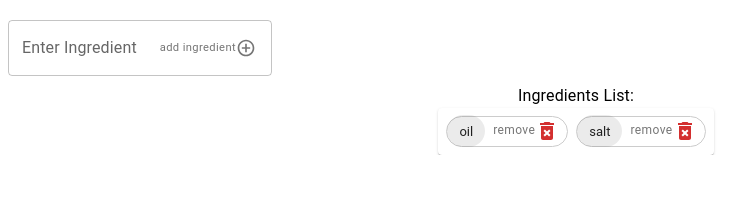
Test: AddIngredient › should render error when ingredient length is less than three characters long when ingredients exist
Expected: the button "add ingredient" is shown, [155,33,261,63]
Type "To" into the field labelled "Enter Ingredient". click: x=77, y=48
box: [8,20,147,76]
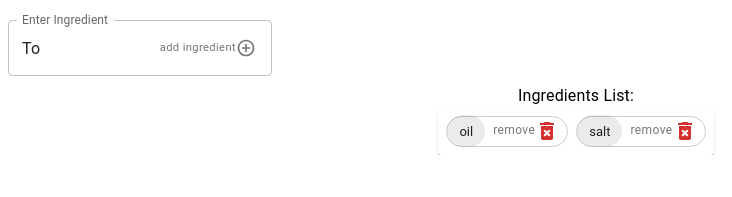
Click the button "add ingredient". click: x=208, y=48
box: [155,33,261,63]
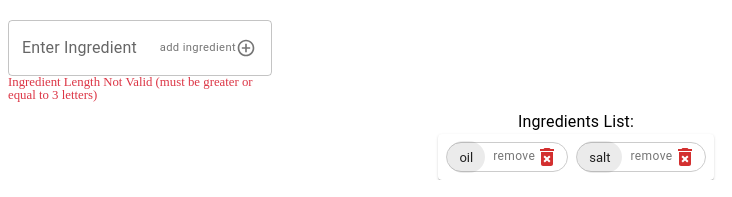
Expected: the text with test id "ingredient-length-error-text" is shown, [8,76,272,102]
Expected: the text with test id "ingredient-length-error-text" reads "Ingredient Length Not Valid (must be greater or equal to 3 letters)", [8,75,253,102]
